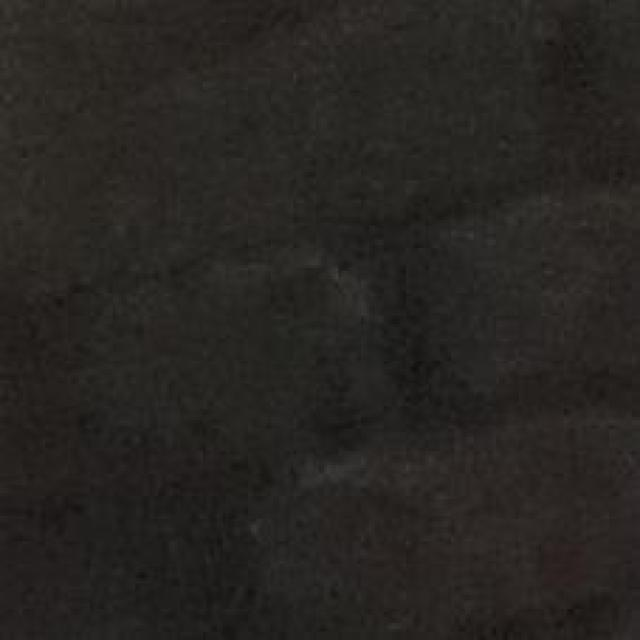Crack: (197, 93, 640, 640)
